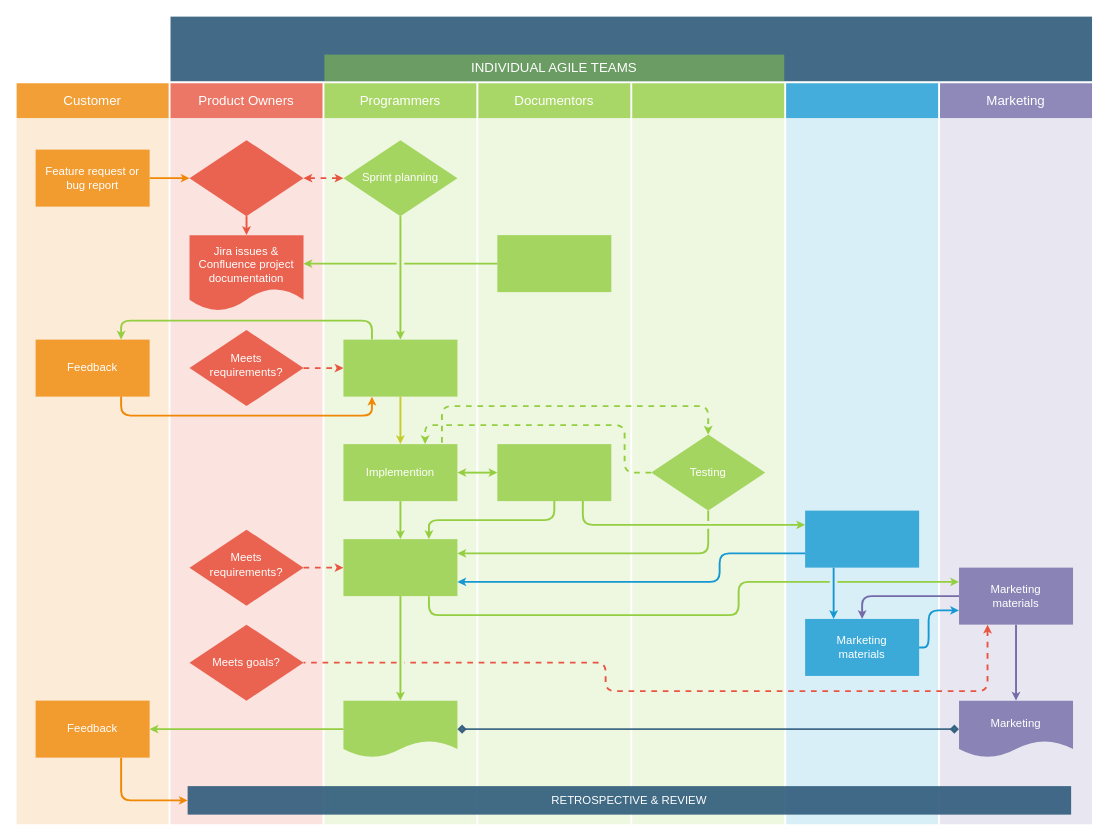
The diagram is 1108 pixels wide and 840 high, and some of its shapes have lost their labels. Each missing label, with the box of its shape:
AGILE ORGANIZATION: (170, 16, 1092, 81)
Documentation: (497, 444, 611, 501)
Goals, requirements & planning: (189, 140, 303, 216)
Prototype(s): (343, 339, 457, 396)
QA: (632, 83, 784, 824)
Release: (343, 700, 457, 757)
Release candidate(s): (343, 539, 457, 596)
Requirements & design documentation: (497, 235, 611, 292)
Translators: (786, 83, 938, 824)
UI & documentation: (805, 510, 919, 567)
